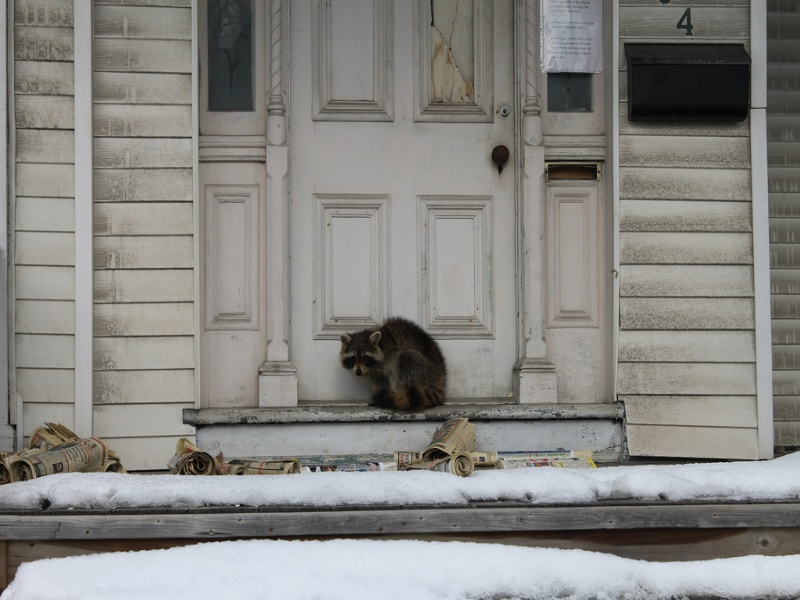raccoon: (336, 315, 450, 413)
